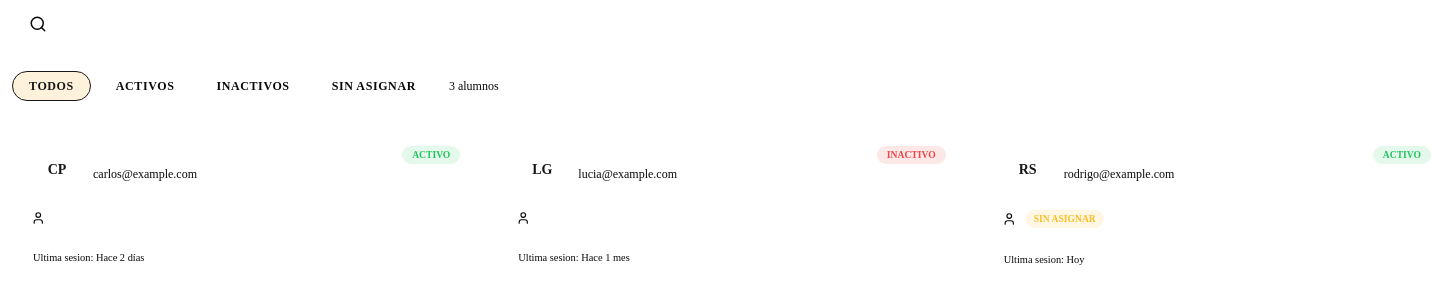
Test: AdminAlumnosGrid › shows singular label when only 1 student matches
What coordinates should you click on to do the following:
click the button "Inactivos"
I would click on:
 (253, 86)
Its box is [199, 71, 307, 101].
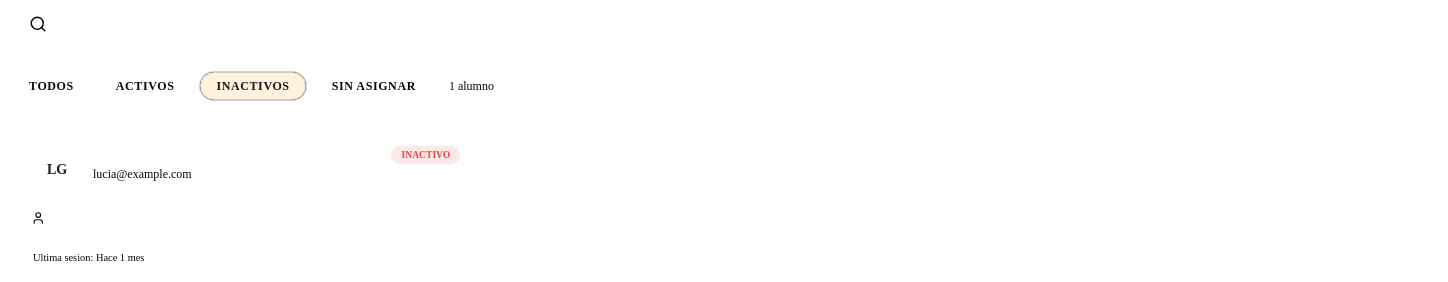
Expected: the text "1 alumno" is shown, [449, 78, 494, 94]
